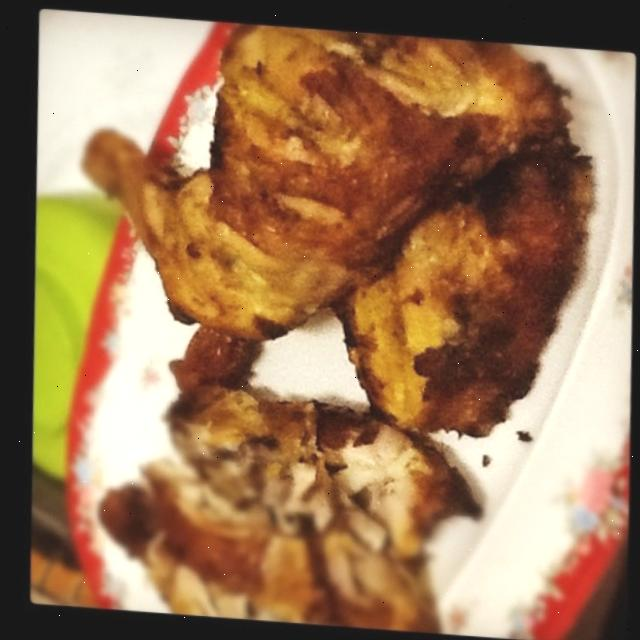鸡肉料理 含炸鸡: (9, 21, 635, 630)
